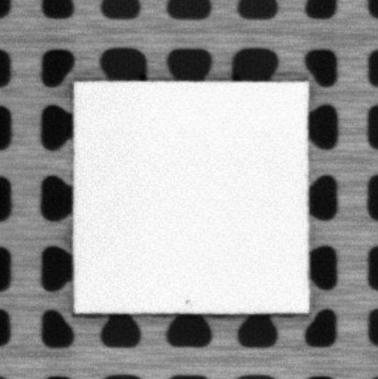DIE_INK: (182, 297, 193, 305)
